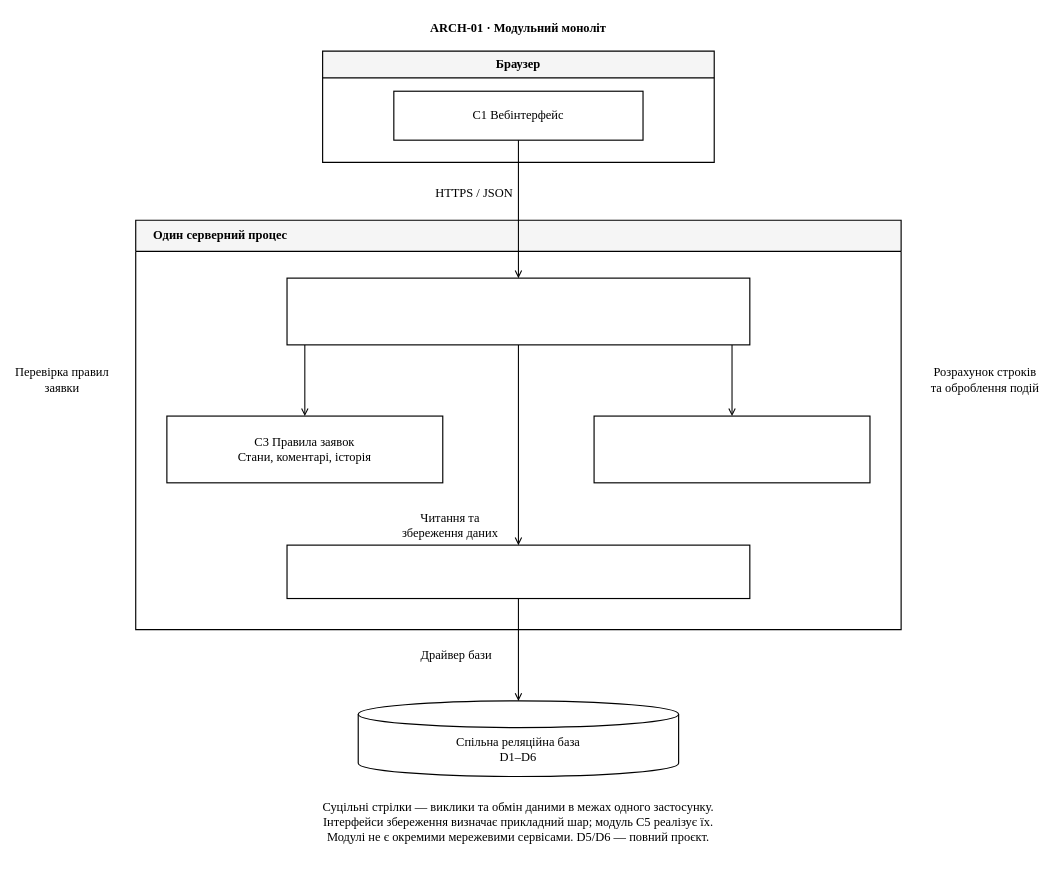
Some shapes in this 1056 by 880 pixel diagram are drawn without their labels. Here are the shapes that lost their labels. From the top down, the centre of each, then its label:
At point 518,311: "C2 Прикладні сценарії Доступ, валідація, повтори".
At point 731,449: "C4 Строки та сповіщення Розрахунки + фонове завдання".
At point 518,571: "C5 Доступ до даних Адаптери збереження, транзакції та контроль версій".
